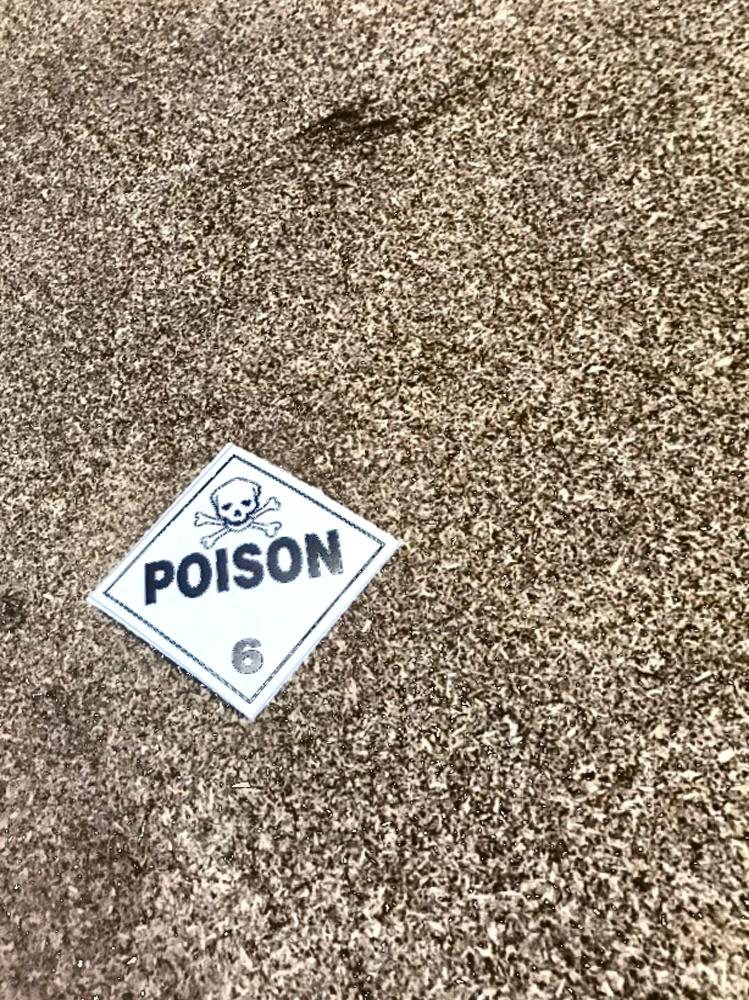poison: (94, 426, 399, 724)
